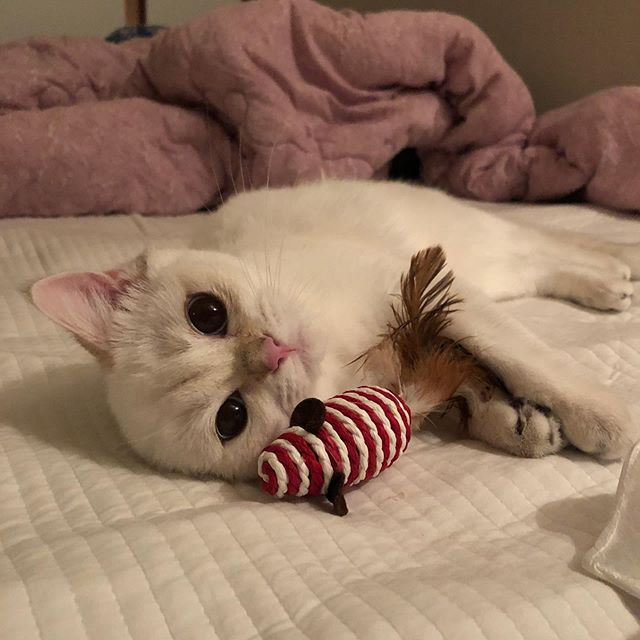cat: (20, 243, 345, 503)
